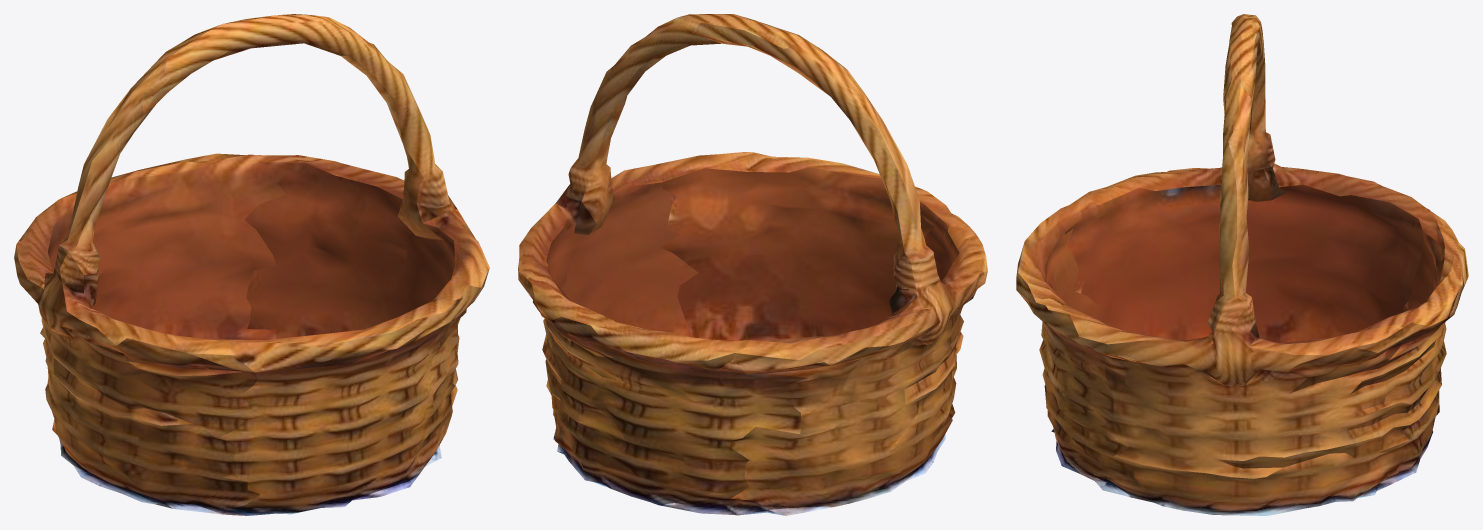
File: basket.glb
The picture shows the model from 3 angles, left to right: view 1: azimuth 30°, elevation 25°; view 2: azimuth 150°, elevation 25°; view 3: azimuth 270°, elevation 25°; orthographic projection. The views are drawn at different scales.
Visible parts, largest first — view 1: item_basket; view 2: item_basket; view 3: item_basket.
Part boxes in pixels (<box>): item_basket: <box>14,14,489,515</box>; item_basket: <box>518,14,987,515</box>; item_basket: <box>1016,14,1468,515</box>.
Bounding box in the file's own units: 0.9884 × 0.9863 × 1.
1 material, 1 textured.
